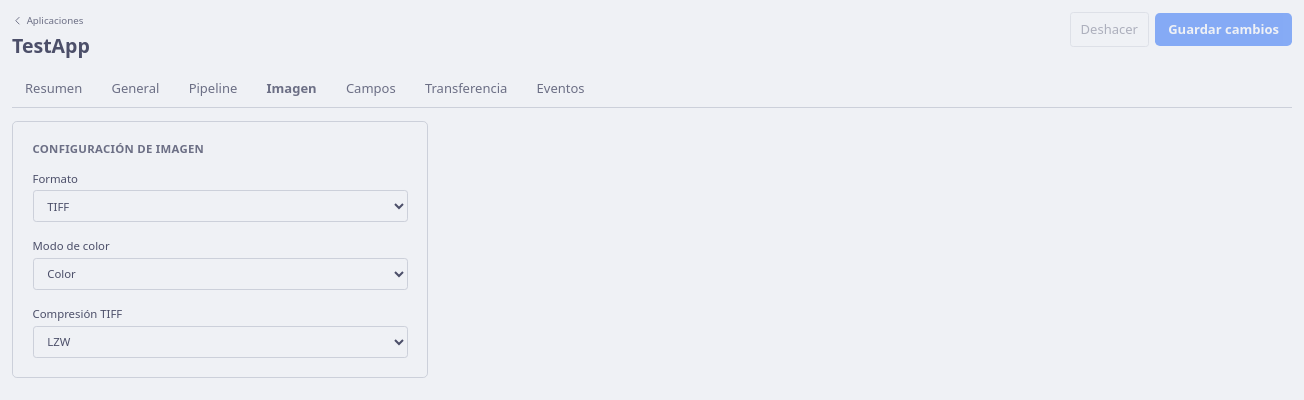
Test: ImageConfigEditorView › hasChanges empieza false y se vuelve true al cambiar format
Expected: the button with test id "save-image-config" is disabled, [1155, 13, 1292, 46]
Select "JPEG" in the dropdown with test id "select-format" at (220, 206), box [32, 190, 408, 222]
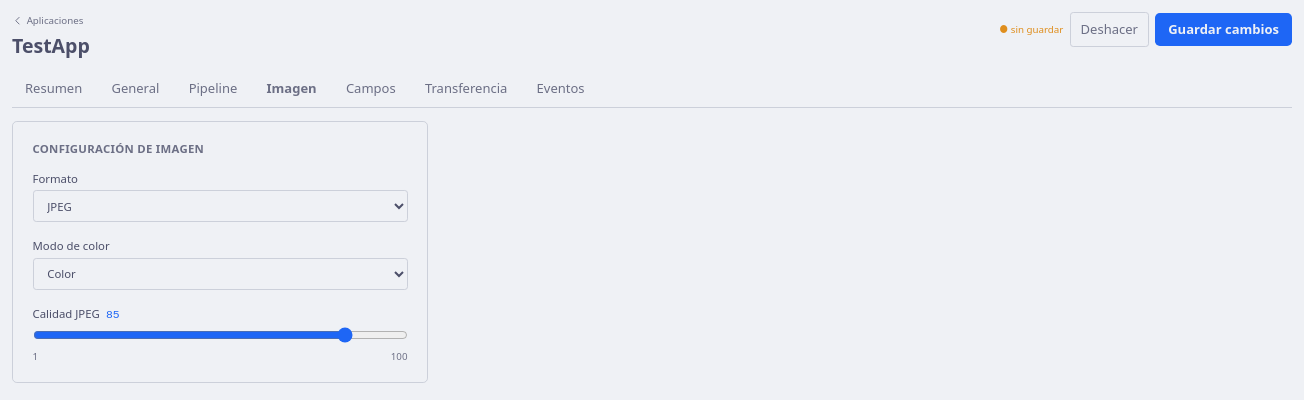
Expected: the button with test id "save-image-config" is enabled, [1155, 13, 1292, 46]
